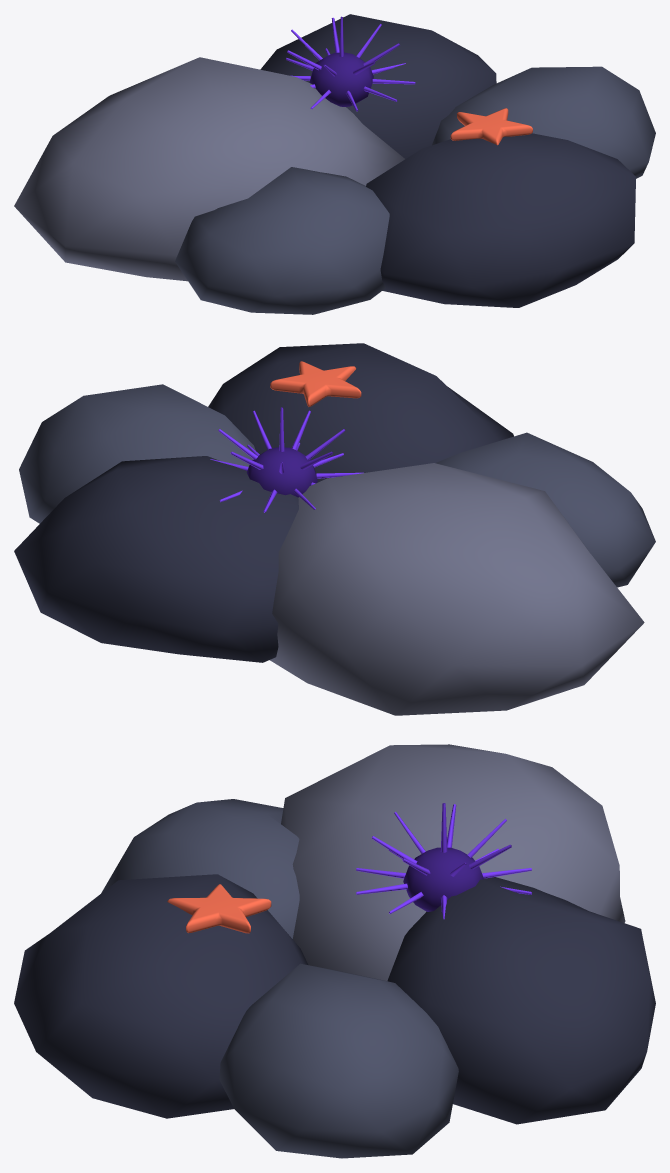
Rendered from aqua_rocks.glb.
3 views of the same model, one above another, from view 1: azimuth 30°, elevation 25°; view 2: azimuth 150°, elevation 25°; view 3: azimuth 270°, elevation 25° (orthographic). The views are drawn at different scales.
Parts seen in each view (by area): view 1: Rocks; view 2: Rocks; view 3: Rocks.
Boxes of the visible parts, x1=… form: Rocks: x1=14, y1=14, x2=655, y2=314; Rocks: x1=14, y1=343, x2=655, y2=715; Rocks: x1=14, y1=744, x2=655, y2=1158.
Bounding box in the file's own units: 1.97 × 0.604 × 1.57.
